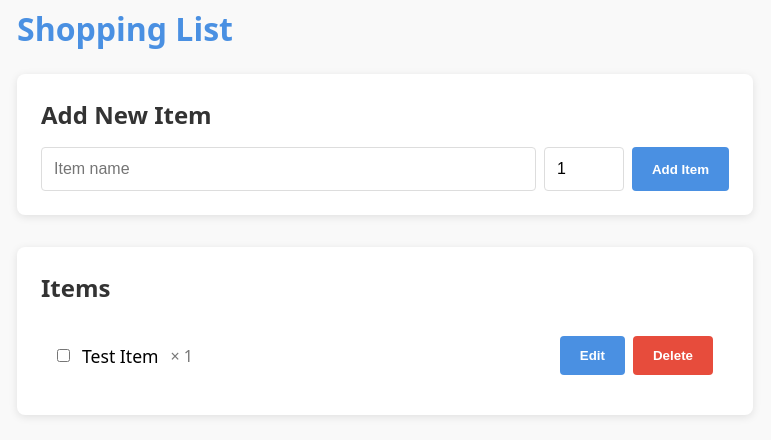
App Component - Edit and Delete Tests › can cancel editing an item
This screenshot has width=771, height=440.
Expected: the text "Test Item" is shown, [82,344,158,368]
// Click edit button
Click the button "Edit". click: click(592, 356)
box: [560,336,625,375]
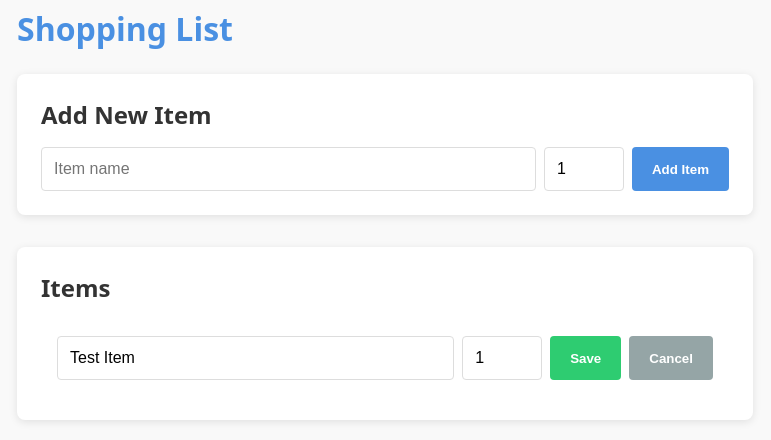
Now the field showing "Test Item" is shown, box [57,336,454,380]
// Click cancel button
Click the button "Cancel". click: click(671, 358)
box: [629,336,713,380]
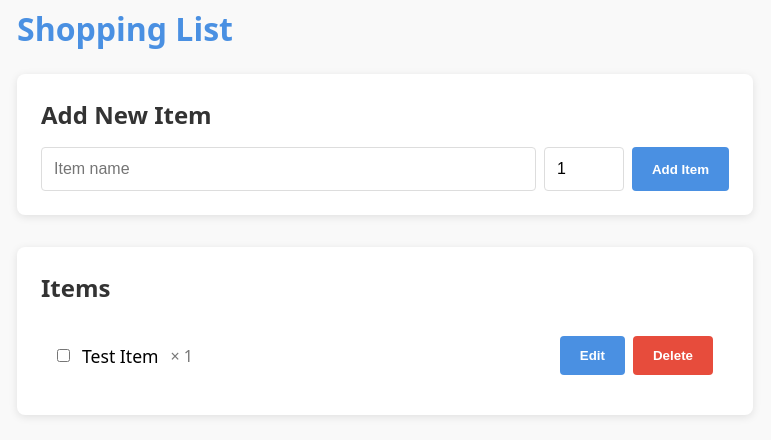
Now the button "Save" is gone
Now the text "Test Item" is shown, box [82,344,158,368]
